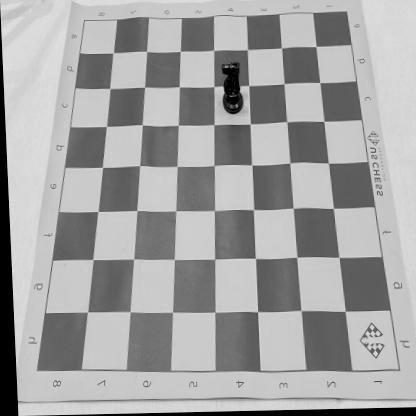black-knight: (218, 61, 244, 116)
